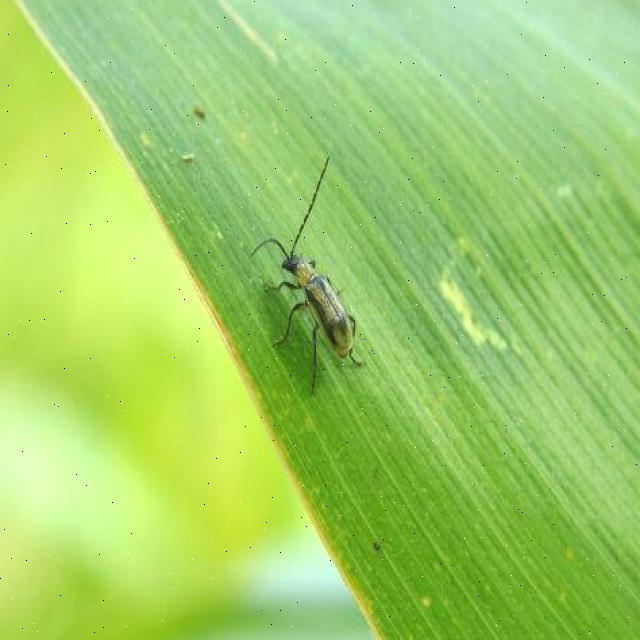trips: (253, 156, 364, 394)
